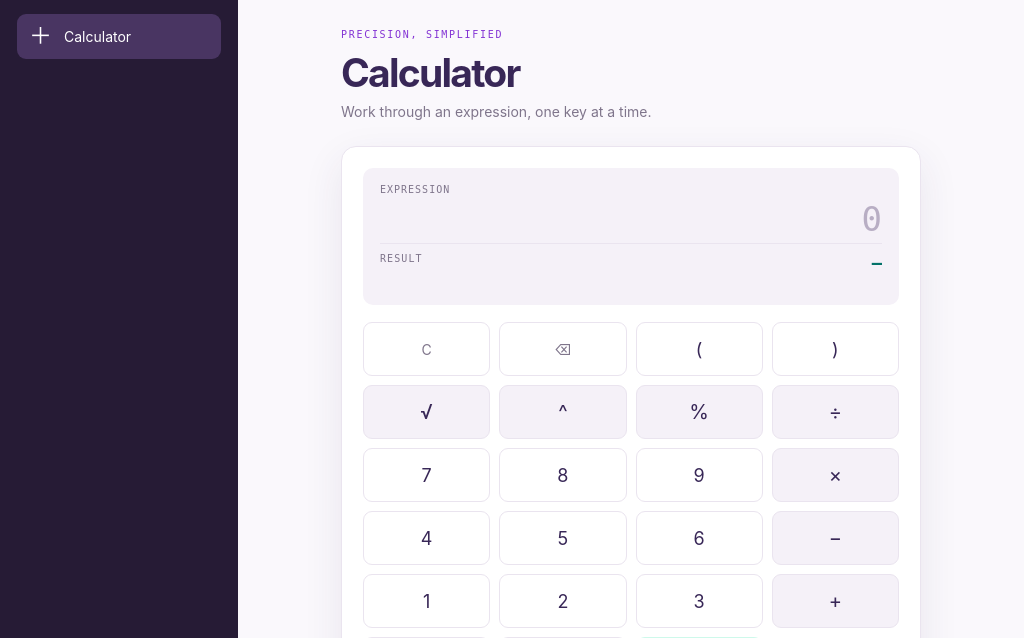
calculator › handles an invalid null success envelope with safe recoverable feedback
Click the button "1" at x=427, y=601, box [363,574,490,628]
(page scrolled)
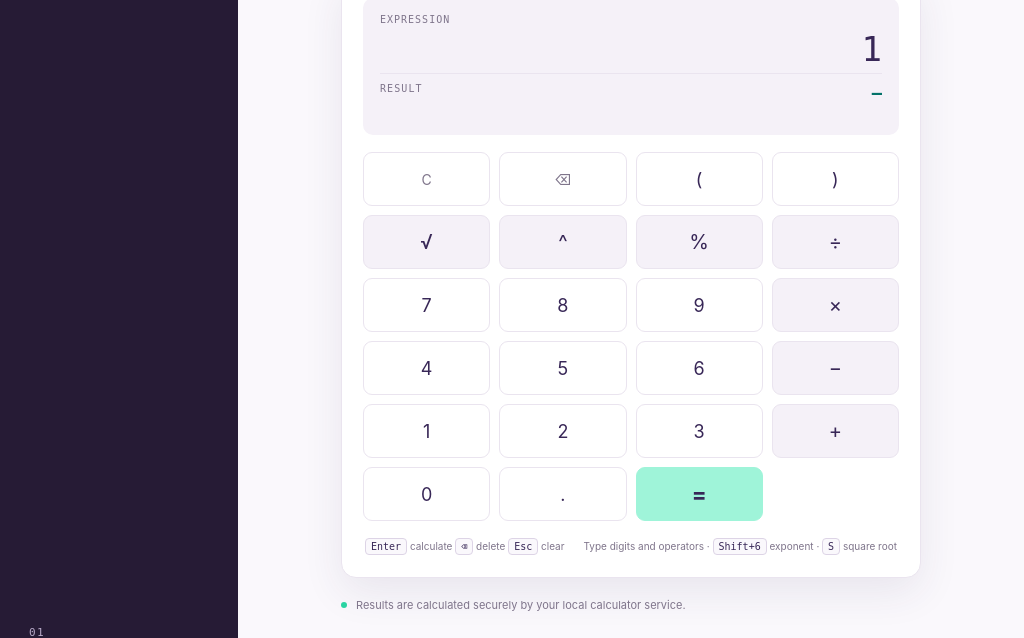
Click the button "=" at x=699, y=494, box [636,467,763,521]
(page scrolled)
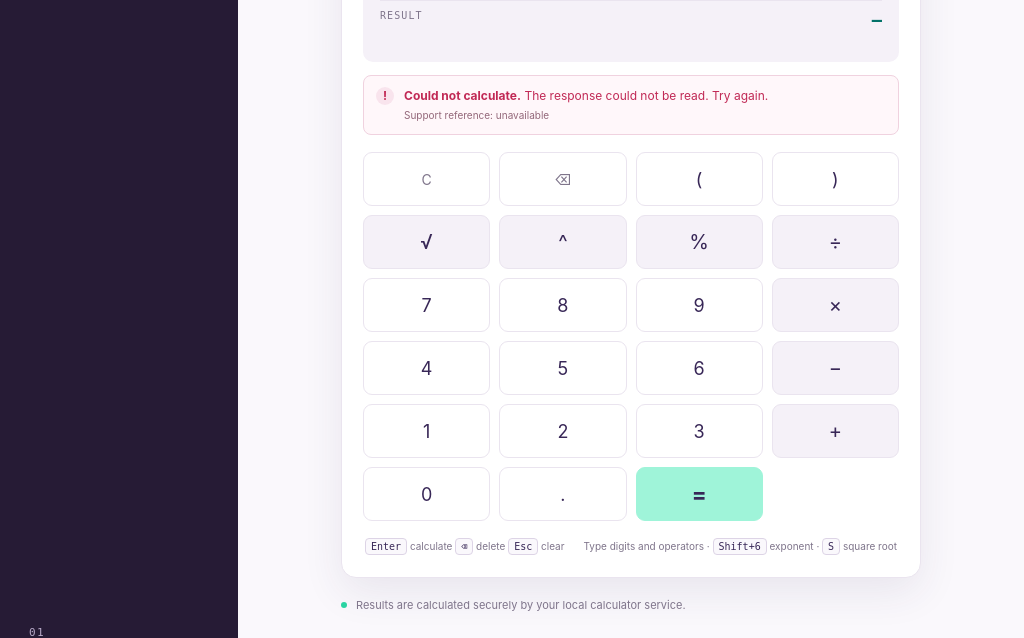
Check: the message that starts with "Could not calculate." shows "response could not be read", box [524,88,768,103]
Check: the message that starts with "Could not calculate." shows "Support reference: unavailable", box [363,75,899,135]
